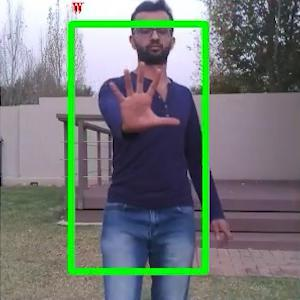follow_hand: (105, 56, 182, 135)
